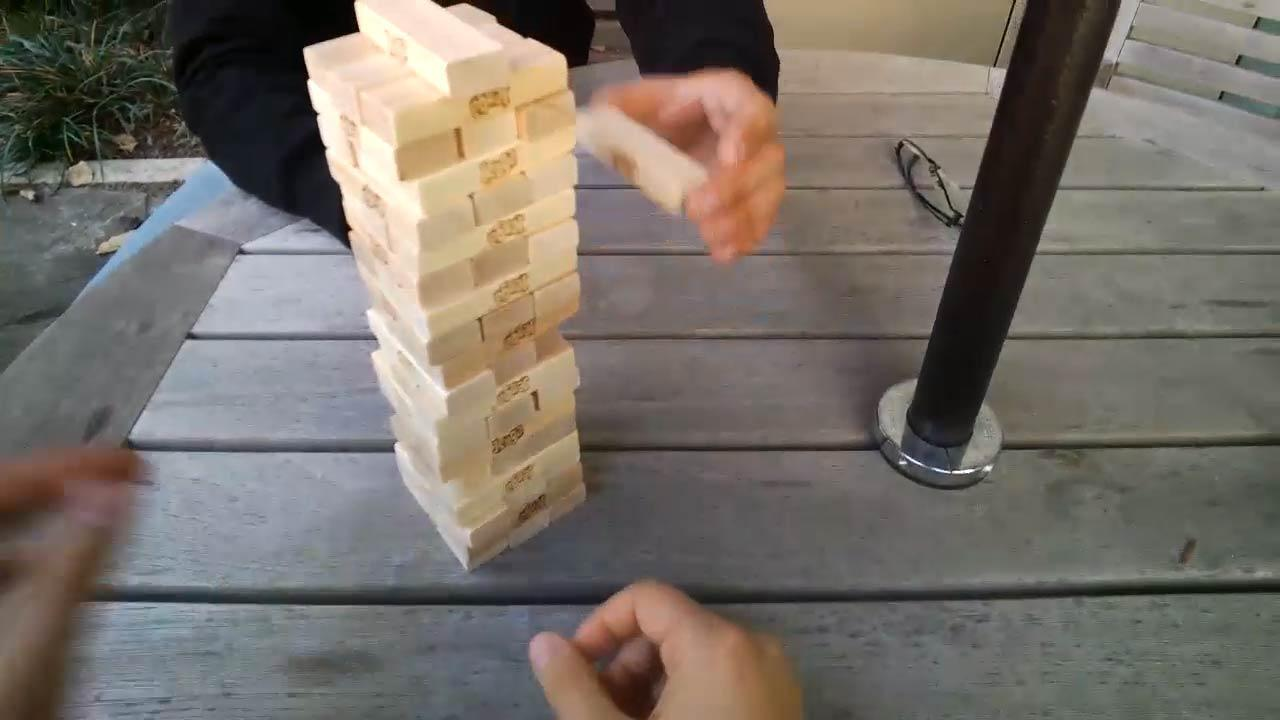hand: (520, 574, 829, 720), (582, 69, 787, 258), (1, 442, 126, 720)
